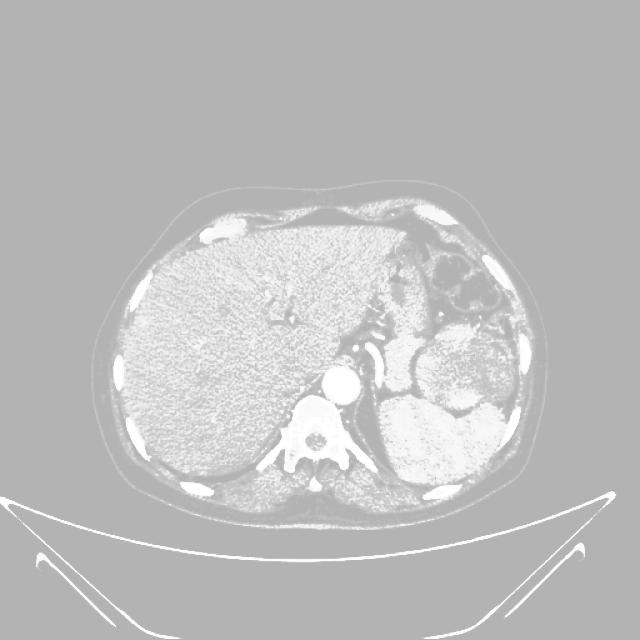TUMOR: (329, 234, 545, 483)
